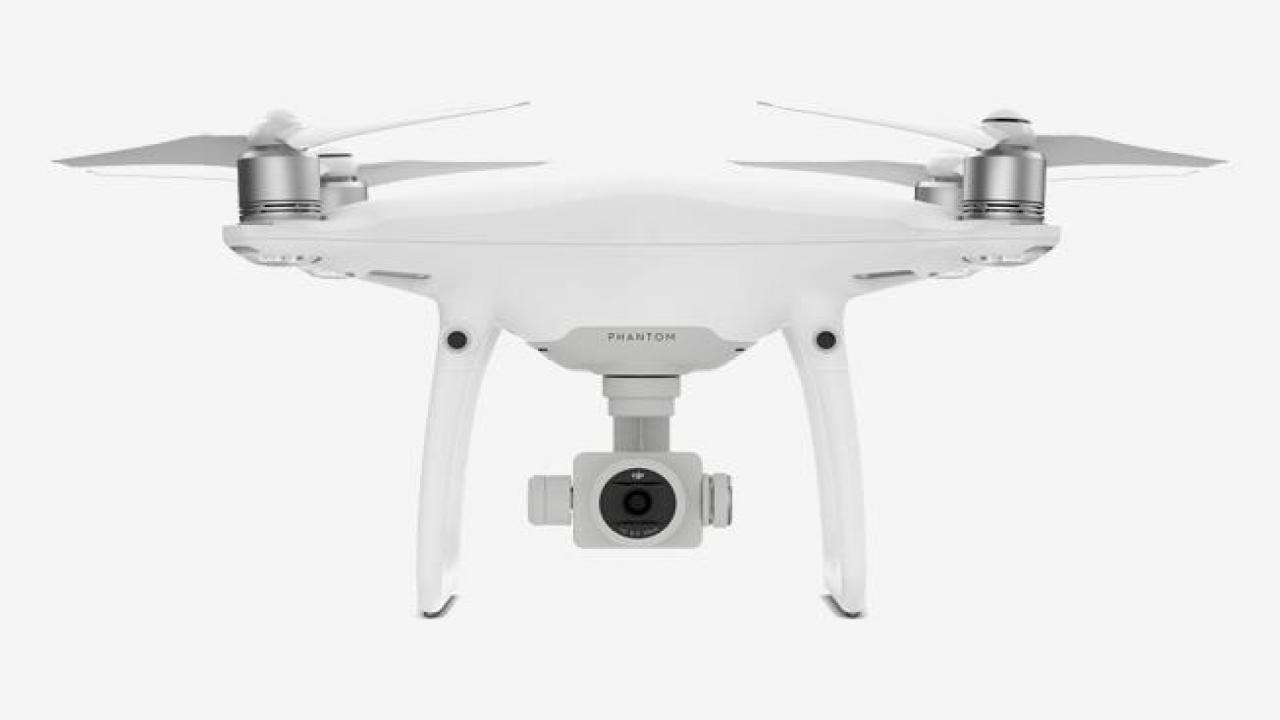Drone: (36, 76, 1240, 636)
